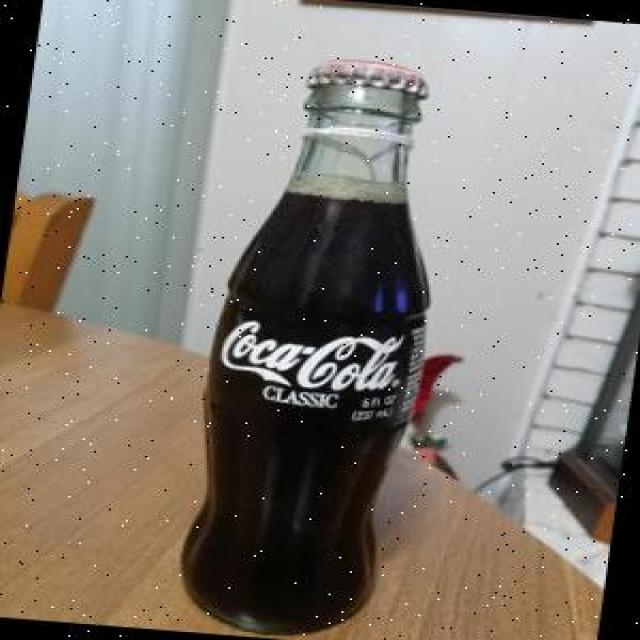coca-cola: (160, 49, 461, 640)
